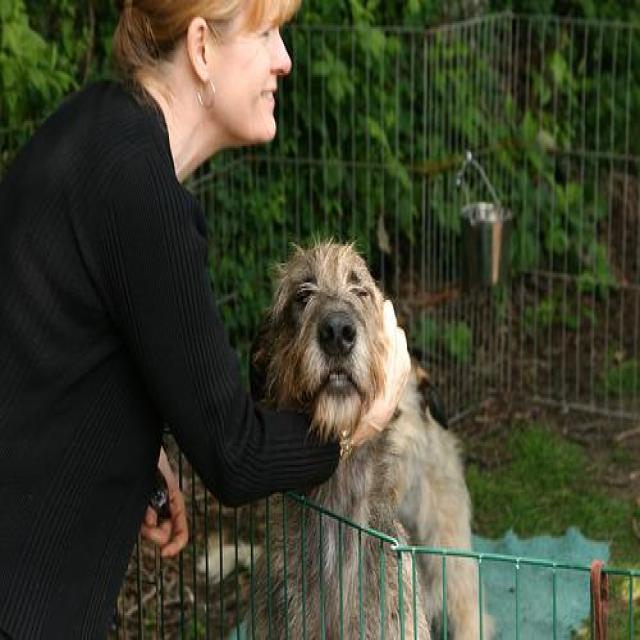irish_wolfhound: (250, 238, 494, 638)
